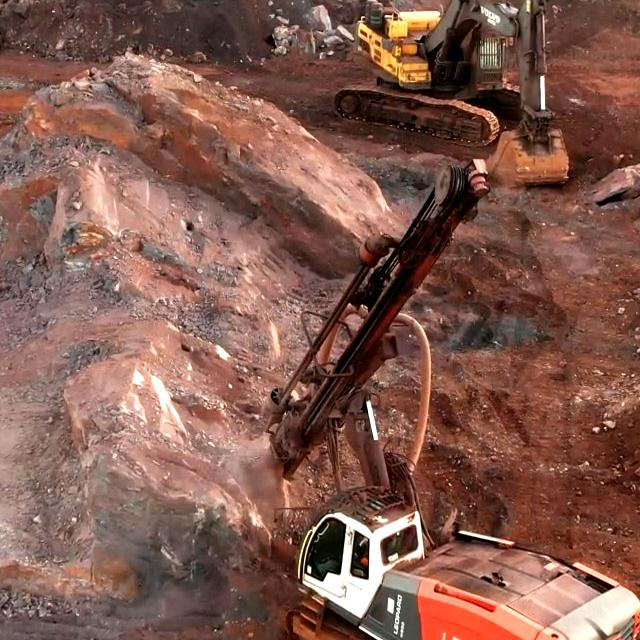Blast rig: (284, 524, 640, 640)
Excavator: (360, 0, 515, 119)
